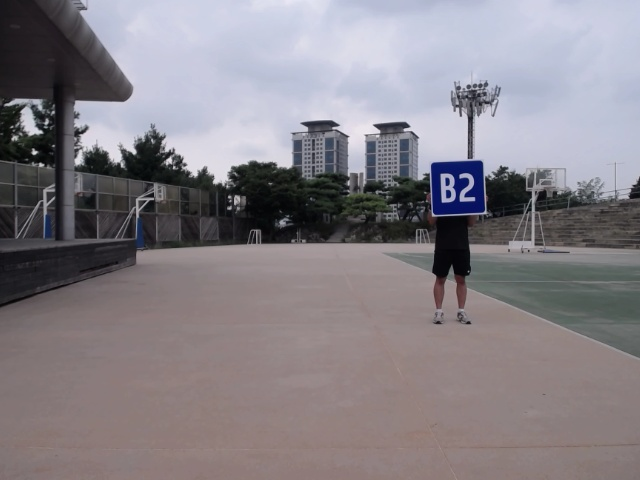delivery_b2: (428, 159, 488, 216)
